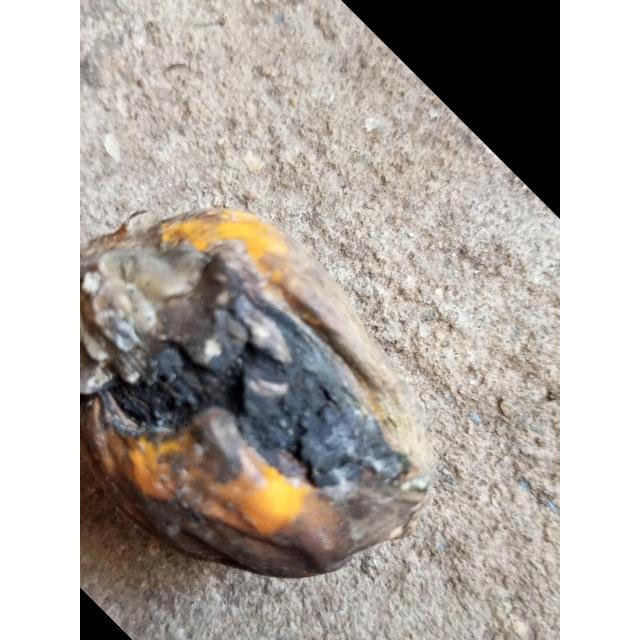damaged: (80, 208, 434, 578)
